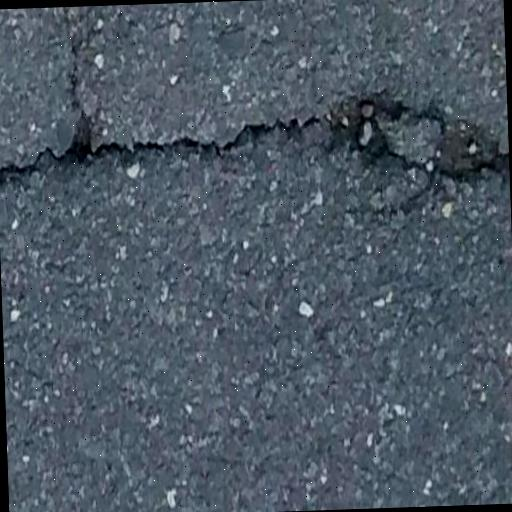spalling: (0, 88, 509, 191)
